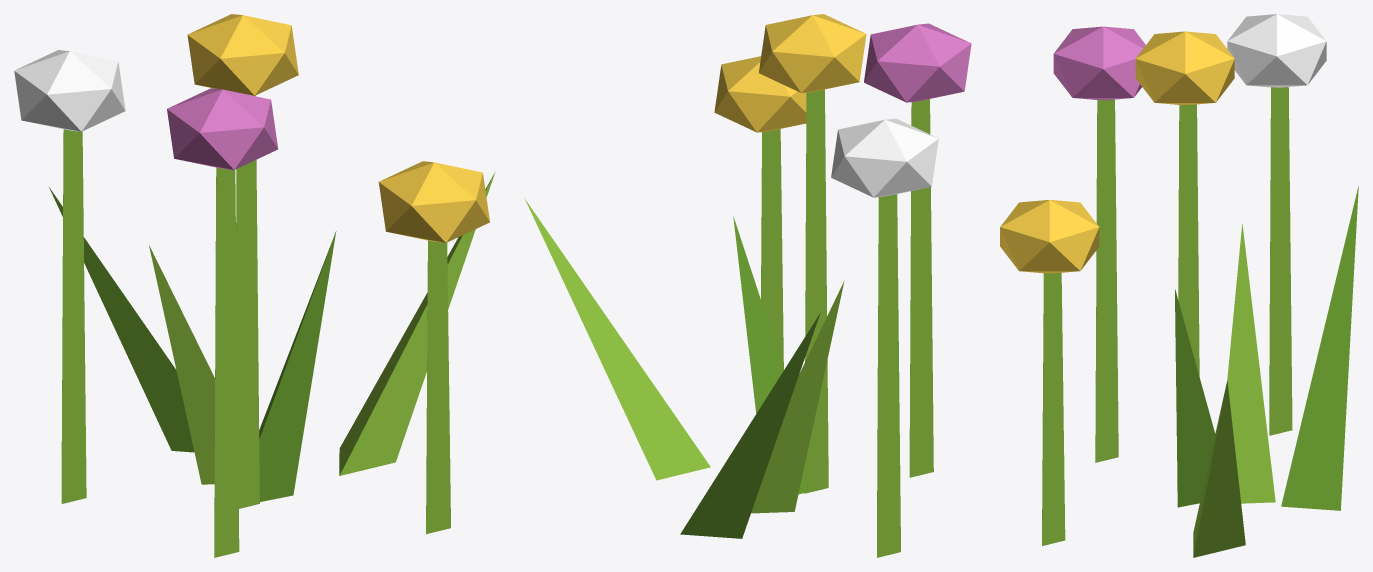
Rendered from Flowers_A.fbx.
3 renders of one model, left to right at view 1: azimuth 30°, elevation 25°; view 2: azimuth 150°, elevation 25°; view 3: azimuth 270°, elevation 25°, orthographic. The views are drawn at different scales.
Parts seen in each view (by area): view 1: Flowers_A; view 2: Flowers_A; view 3: Flowers_A.
Part boxes in pixels (x1,y1,x2,y2): Flowers_A: (14,14,495,557); Flowers_A: (524,14,971,557); Flowers_A: (1000,14,1358,557).
Bounding box in the file's own units: 0.2477 × 0.2583 × 0.1845.
